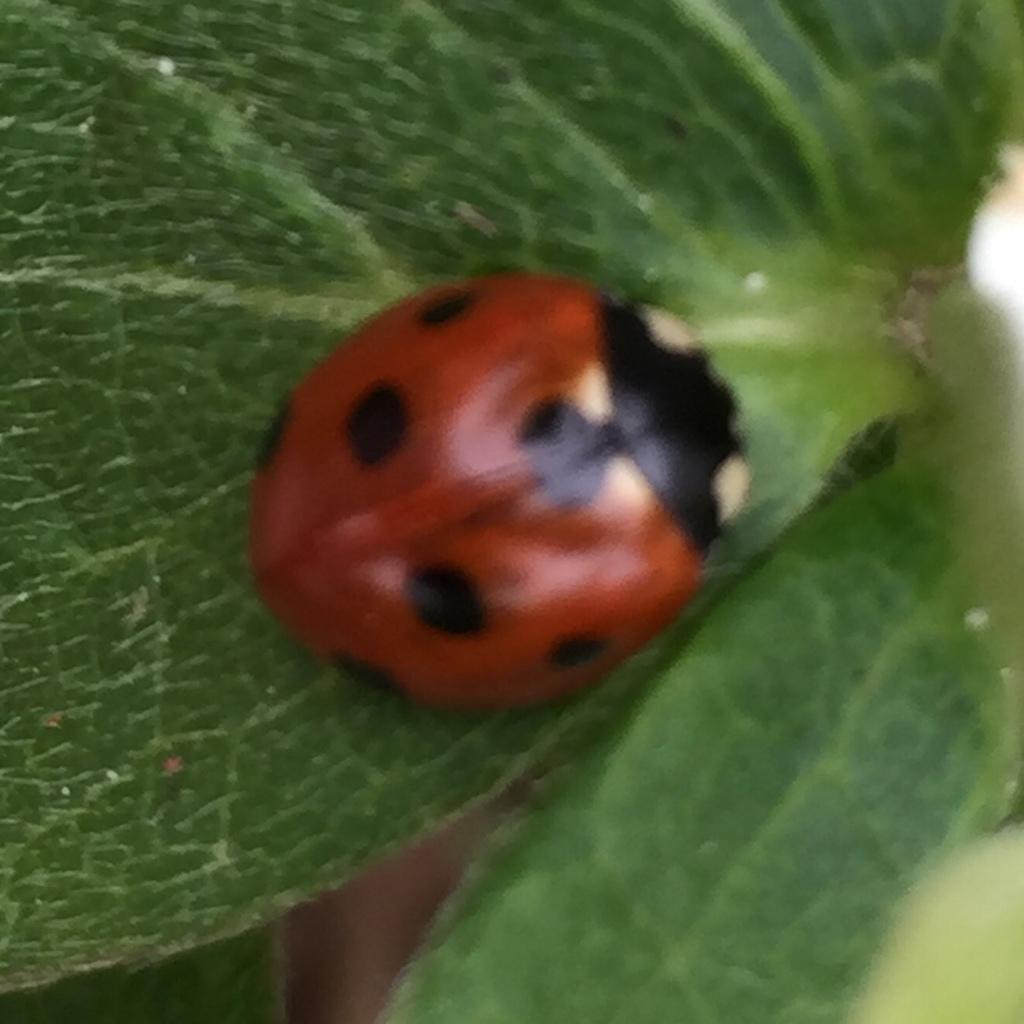ladybug: (241, 264, 761, 726)
